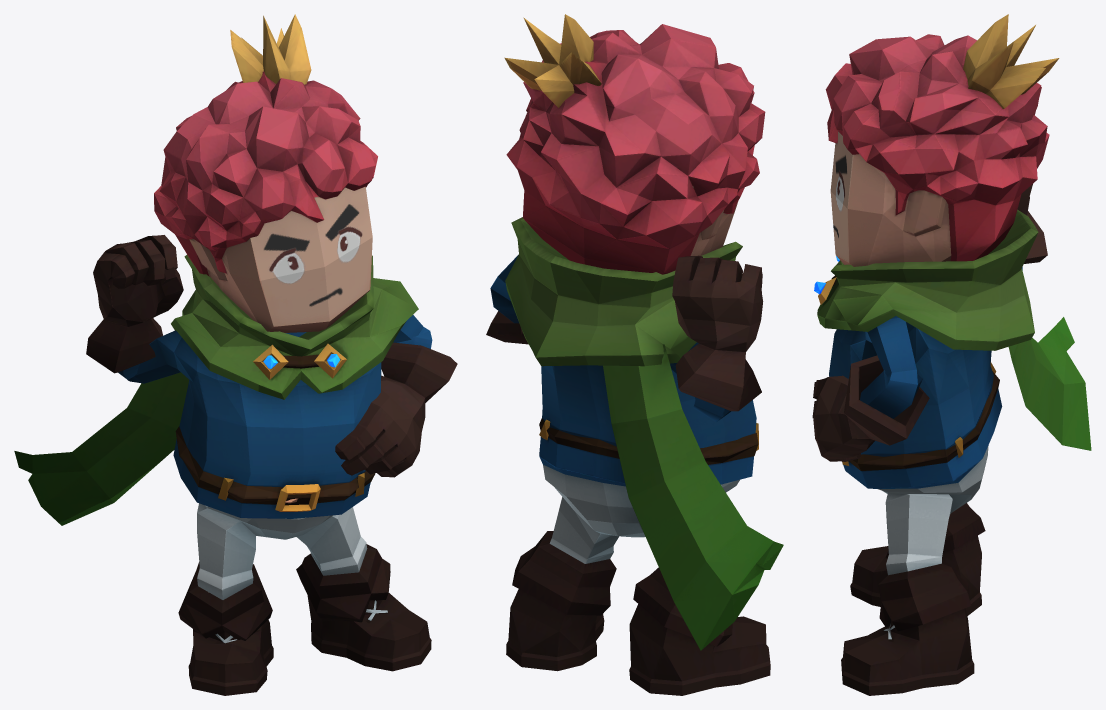
File: avatar-lowpoly.glb
The picture shows the model from 3 angles, left to right: view 1: azimuth 30°, elevation 25°; view 2: azimuth 150°, elevation 25°; view 3: azimuth 270°, elevation 25°; orthographic projection. The views are drawn at different scales.
Parts seen in each view (by area): view 1: SK_Lowpoly_Male_001_2_StaticMeshComponent0; view 2: SK_Lowpoly_Male_001_2_StaticMeshComponent0; view 3: SK_Lowpoly_Male_001_2_StaticMeshComponent0.
Part boxes in pixels (x1,y1,x2,y2): SK_Lowpoly_Male_001_2_StaticMeshComponent0: (14,14,457,695); SK_Lowpoly_Male_001_2_StaticMeshComponent0: (486,14,783,695); SK_Lowpoly_Male_001_2_StaticMeshComponent0: (812,14,1091,695).
Bounding box in the file's own units: 0.9379 × 1.6 × 0.6397.
Materials: 1 (1 with a texture image).
